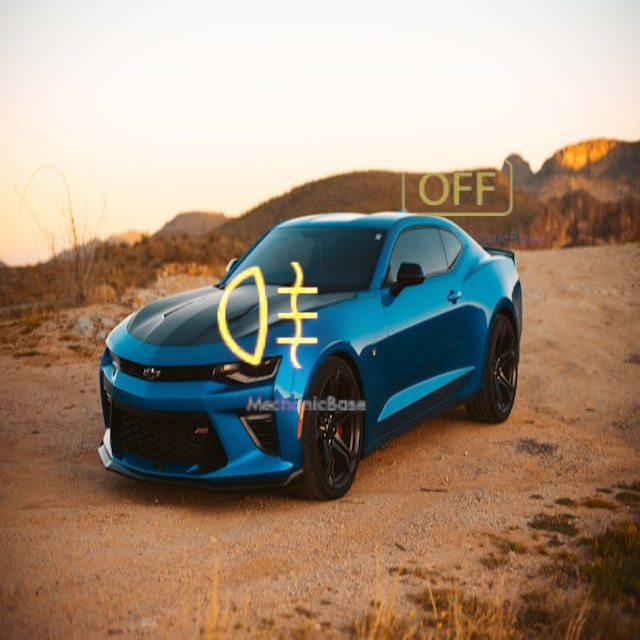symbol: (165, 212, 374, 421), (368, 70, 551, 253)
